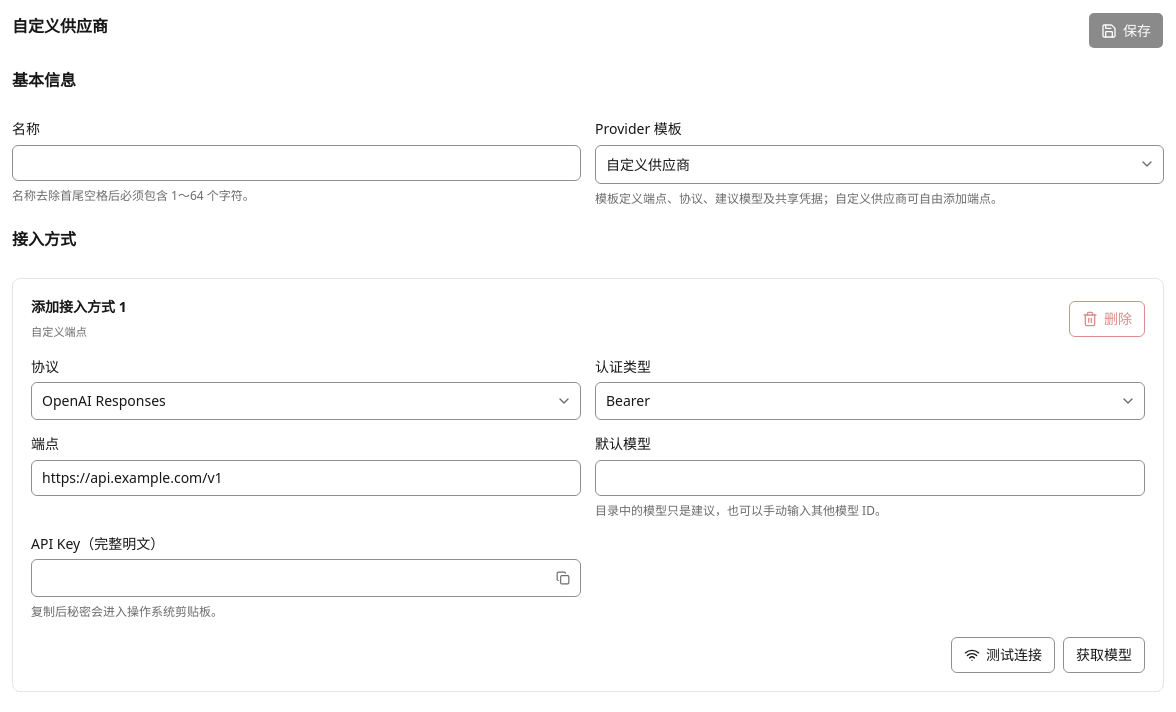
ApiProviderEditor › tests an unsaved provider with the current connection draft
Type "unsaved-secret" into the field labelled "API Key（完整明文）" at (290, 578), box left=32, top=560, right=549, bottom=596
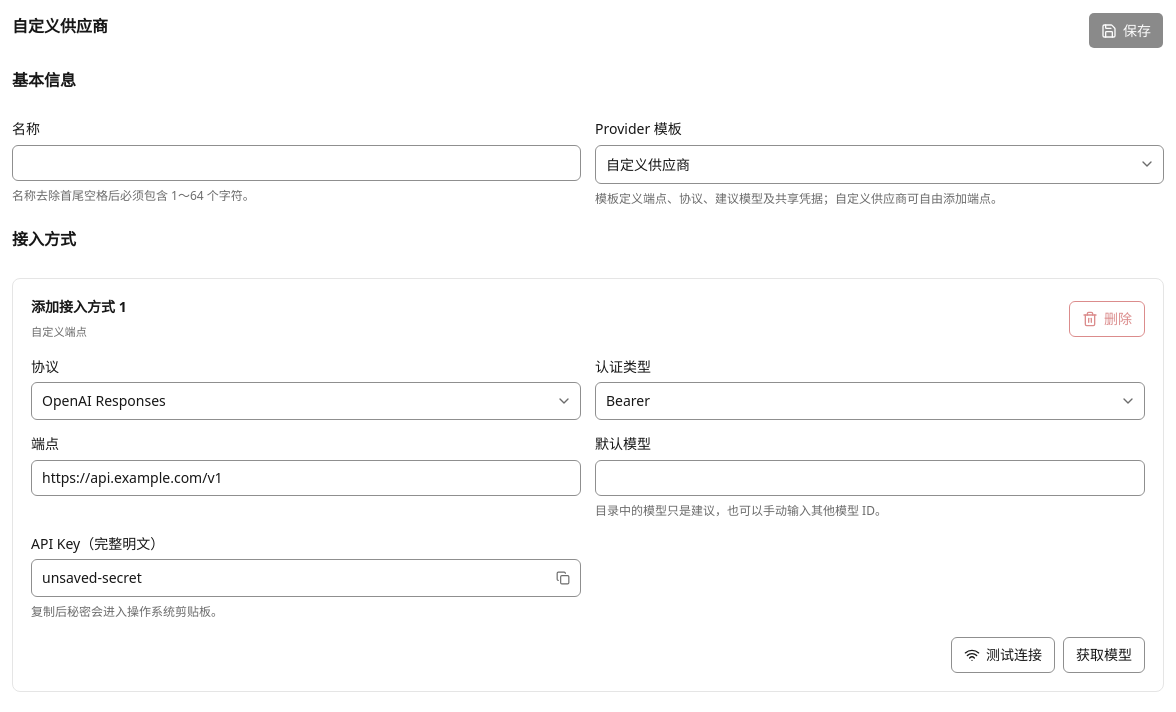
Click the button "测试连接" at (1003, 655), box left=951, top=637, right=1055, bottom=673
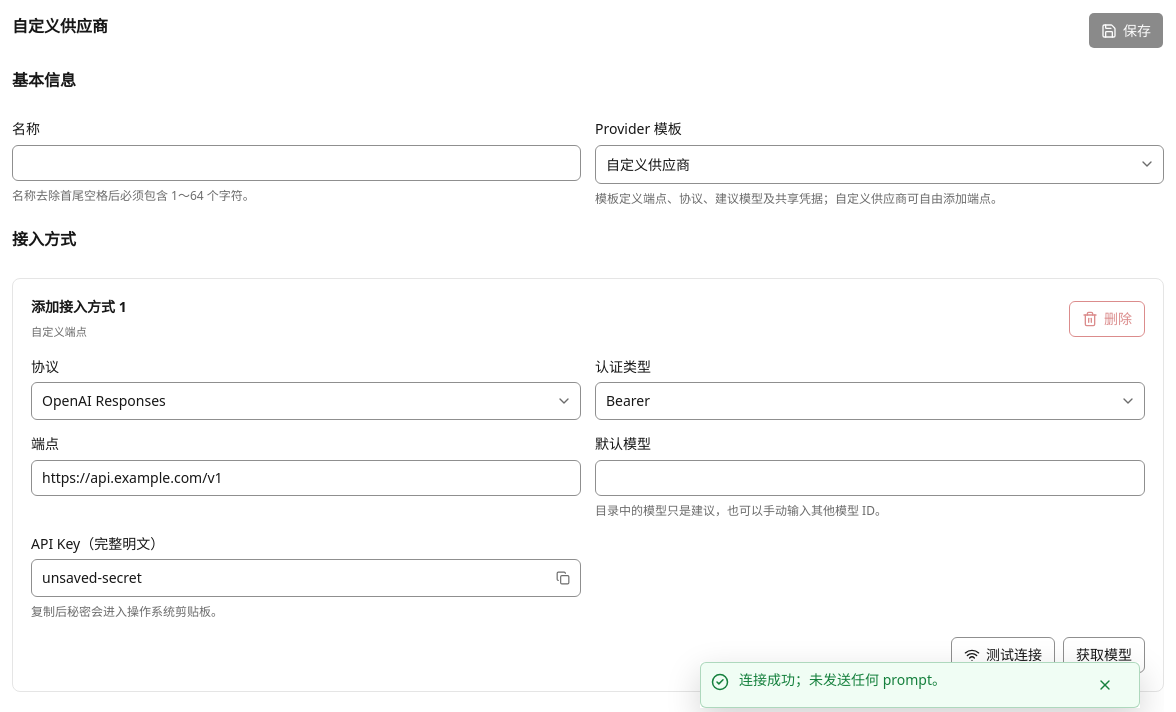
Expected: the text "连接成功；未发送任何 prompt。" is shown, left=739, top=670, right=946, bottom=689
